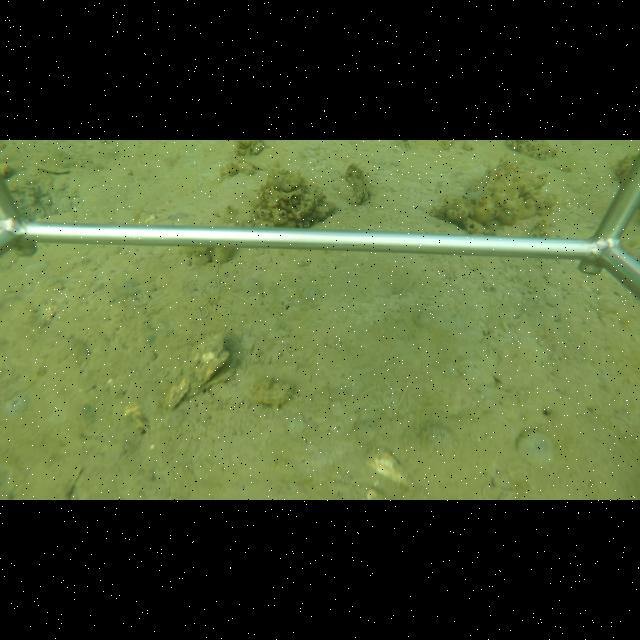Oyster-Closed: (342, 162, 369, 205)
Oyster-Open: (162, 331, 240, 410)
